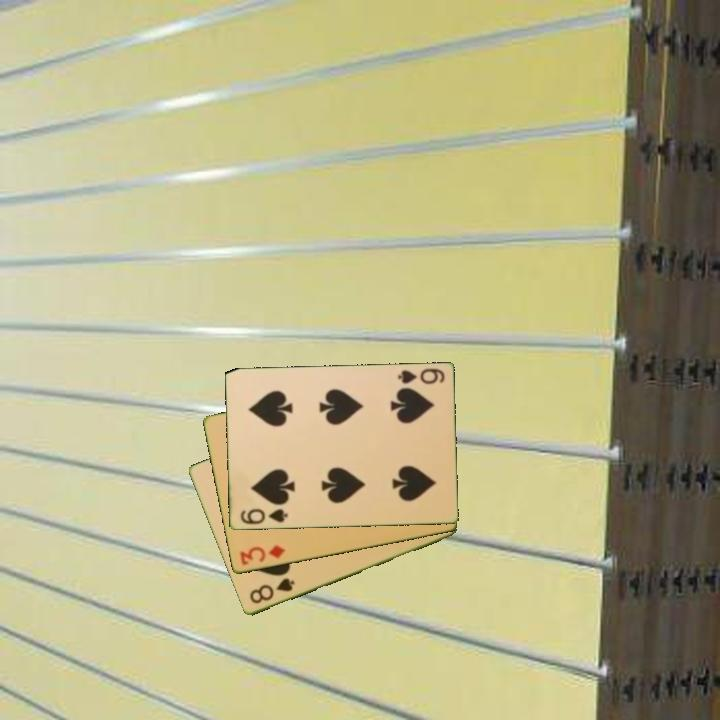3d: (236, 542, 289, 568)
6s: (394, 365, 447, 387), (237, 506, 290, 527)
8s: (246, 575, 297, 607)
